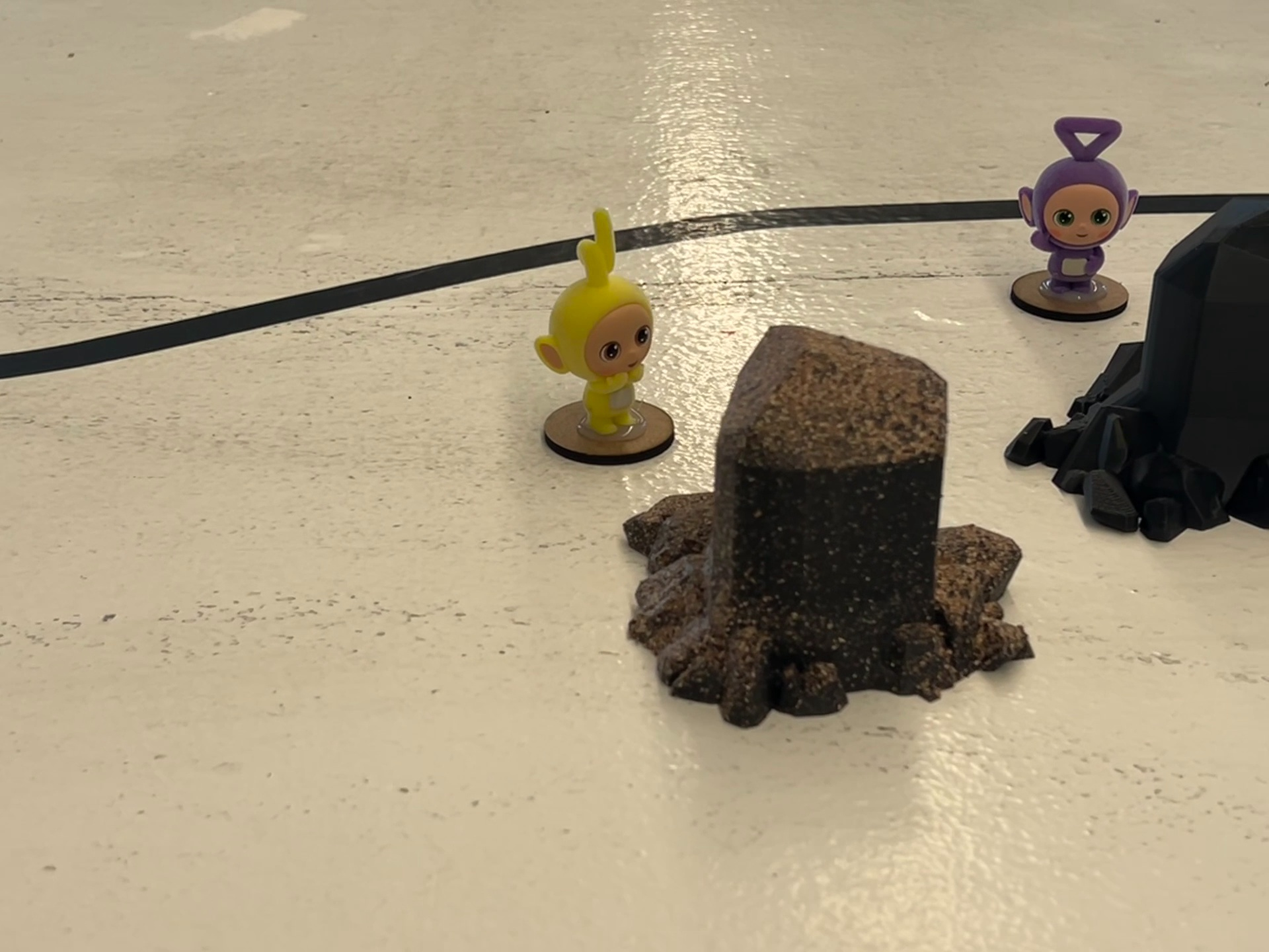teletubby: (534, 208, 654, 435), (1018, 117, 1138, 294)
